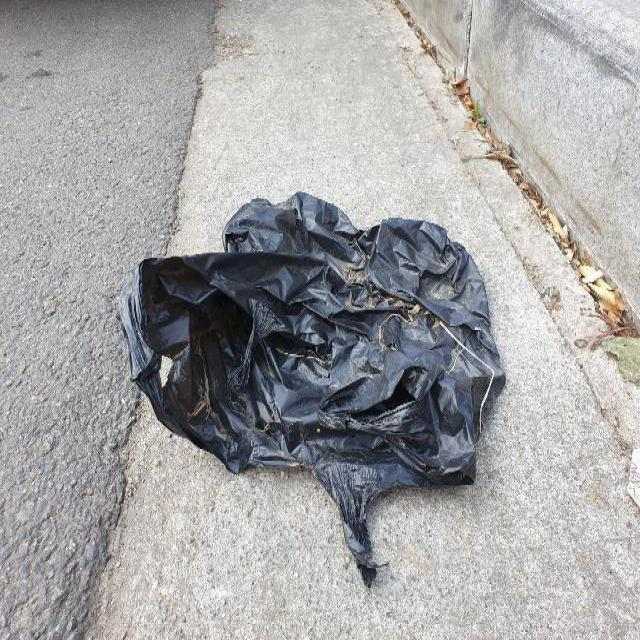plastic bag: (116, 189, 504, 586)
